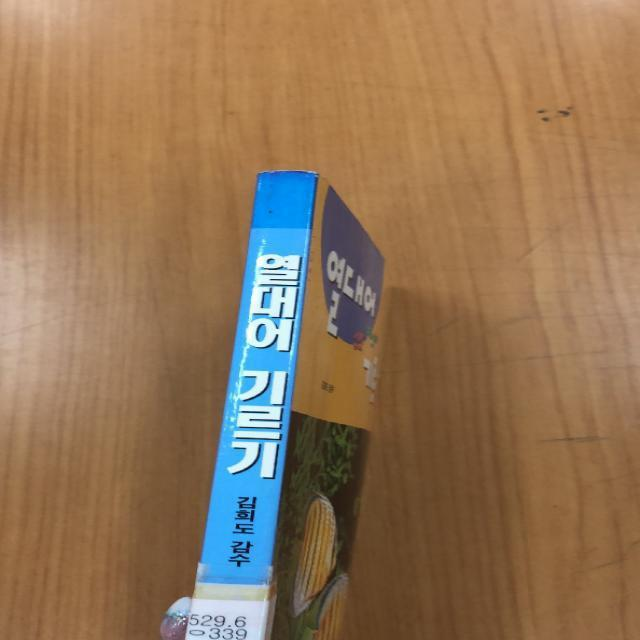Wornout: (255, 169, 325, 179)
